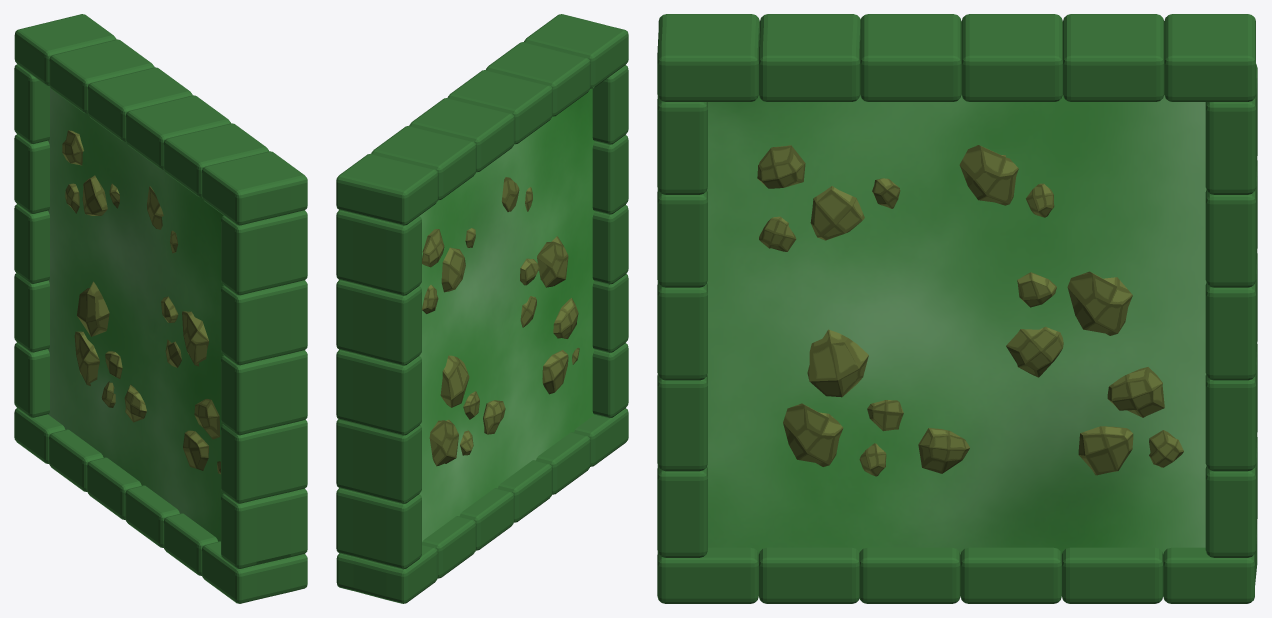
The model's file is walltile.fbx.
3 renders of one model, left to right at view 1: azimuth 30°, elevation 25°; view 2: azimuth 150°, elevation 25°; view 3: azimuth 270°, elevation 25°, orthographic. The views are drawn at different scales.
Visible parts, largest first — view 1: Cube.001; view 2: Cube.001; view 3: Cube.001.
Boxes of the visible parts, left/top/right/bottom form: Cube.001: left=14, top=14, right=307, bottom=603; Cube.001: left=336, top=14, right=628, bottom=603; Cube.001: left=657, top=14, right=1257, bottom=603.
Size of the model in its own units: 36.22 by 200 by 198.
